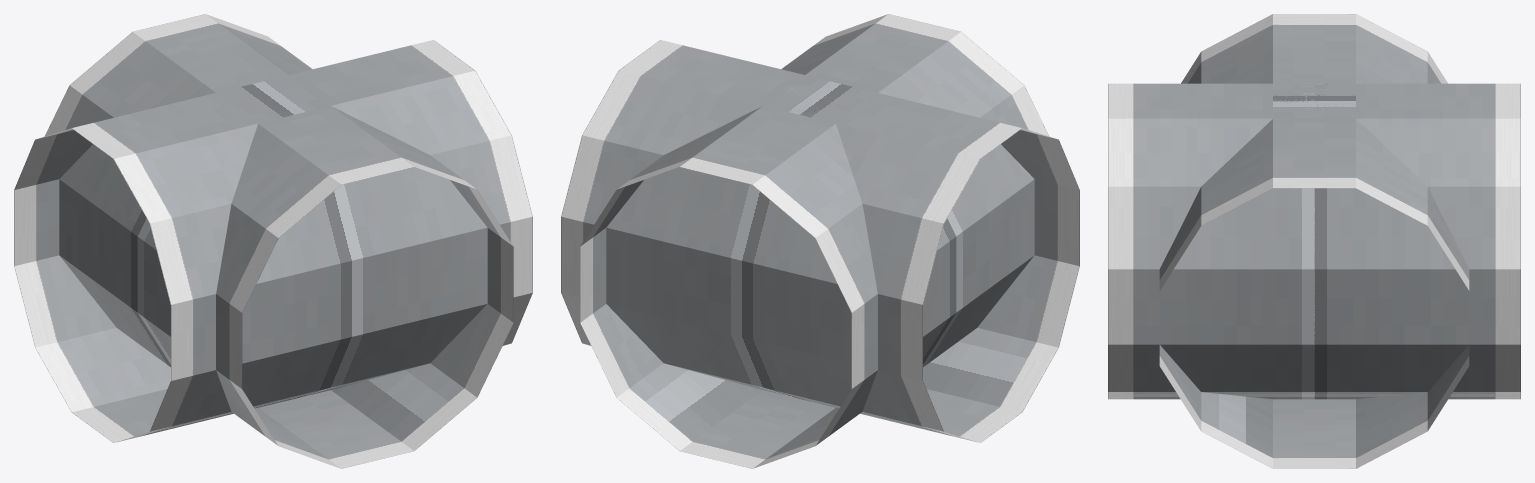
Rendered from connection_60.obj.
The picture shows the model from 3 angles, left to right: view 1: azimuth 30°, elevation 25°; view 2: azimuth 150°, elevation 25°; view 3: azimuth 270°, elevation 25°; orthographic projection.
Size of the model in its own units: 1 by 0.75 by 1.
